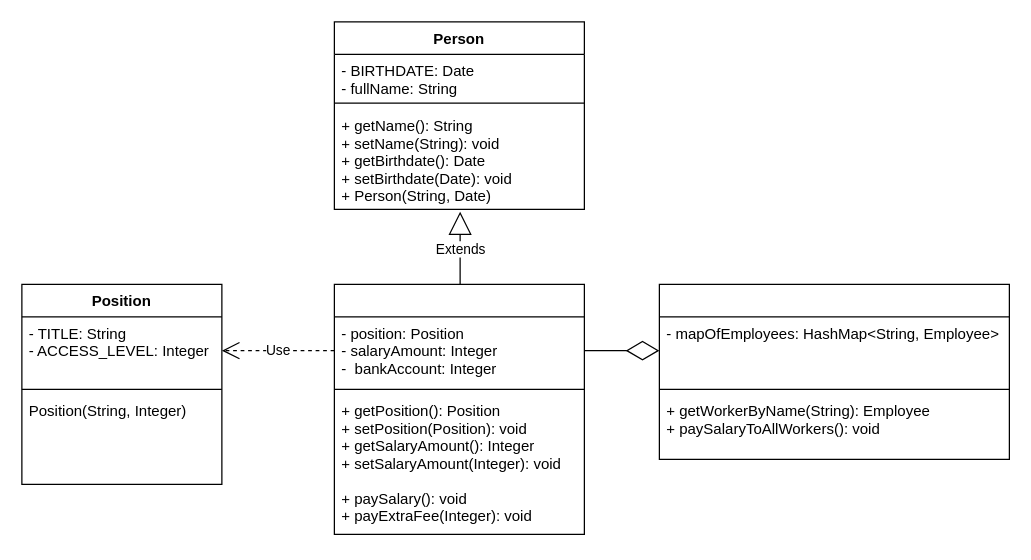
The diagram is 1031 pixels wide and 560 high, and some of its shapes have lost their labels. The box of each missing label's shape, as (x1, y1, x2, y2) in pixels:
Department: (658, 283, 1009, 459)
Employee: (333, 283, 584, 534)
